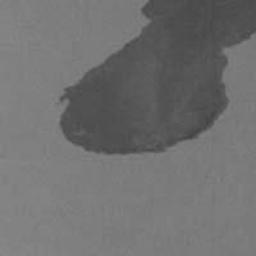Oil spot: (54, 0, 256, 156)
